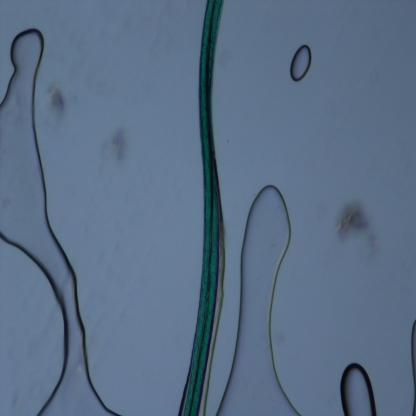Air bubble: (0, 25, 121, 416), (218, 174, 302, 414), (340, 362, 378, 415), (288, 45, 313, 85), (410, 316, 416, 415)
Background material: (336, 199, 372, 240), (102, 124, 128, 161), (46, 81, 69, 112)
Microfibre: (179, 1, 225, 415)
